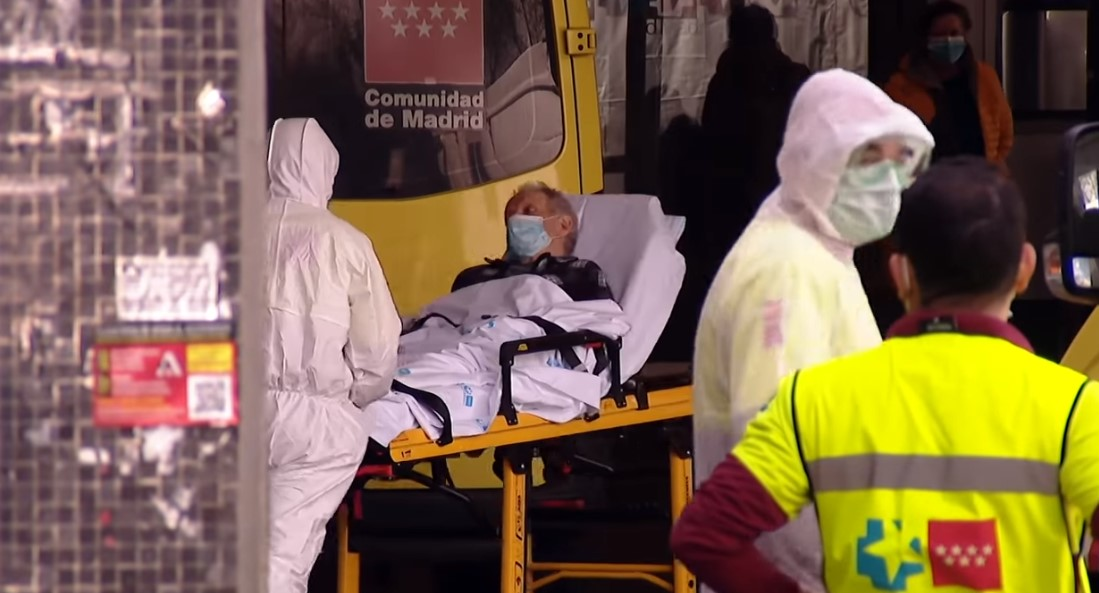face_with_mask: (786, 72, 921, 252), (503, 183, 578, 257), (914, 1, 971, 66)
